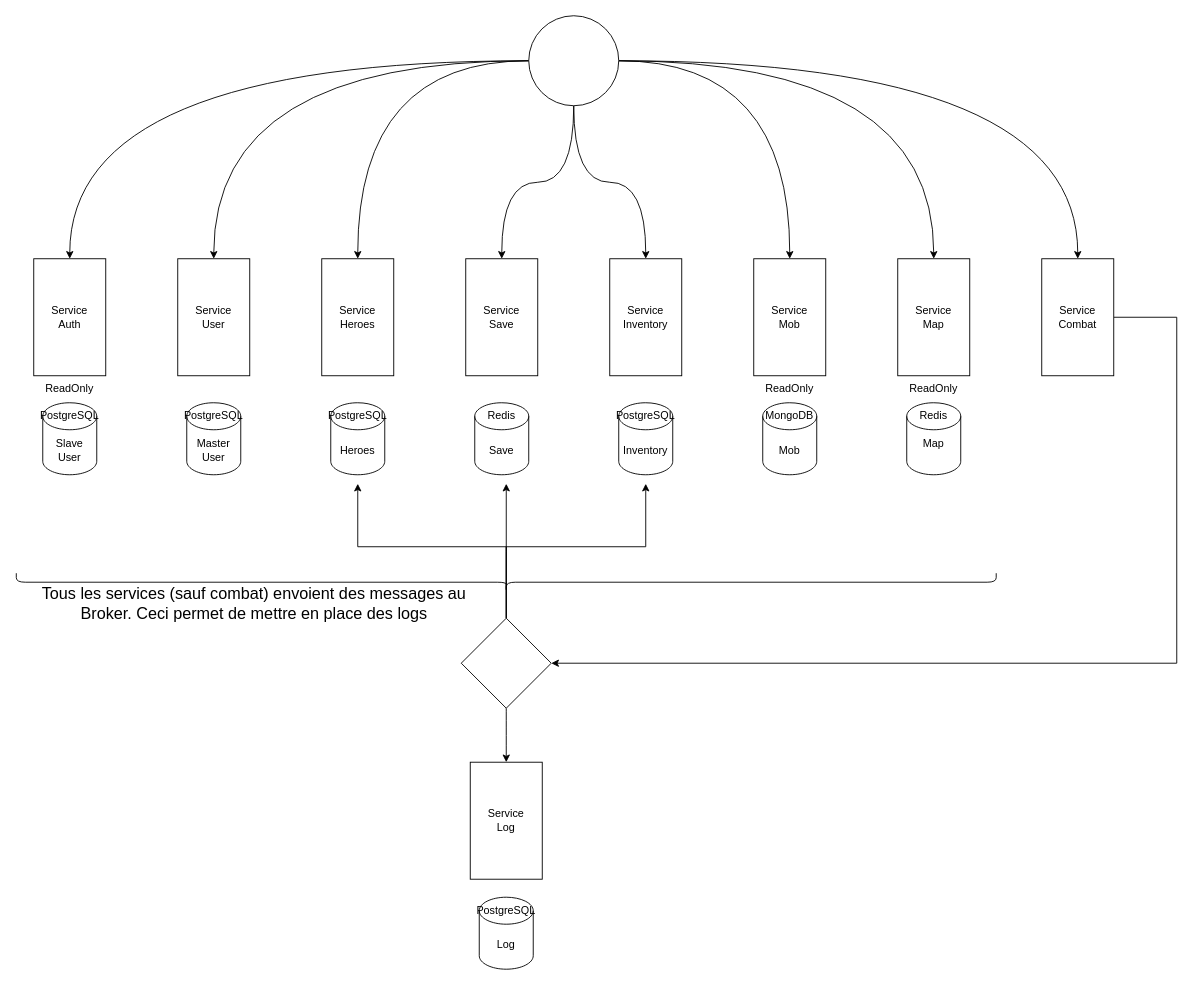
This 1200x986 diagram has some shape labels left out. The centre of each missing label's shape, as x and y in pixels:
"Broker RabbitMQ" belongs at (x=505, y=662).
"FrontEnd" belongs at (x=573, y=60).
